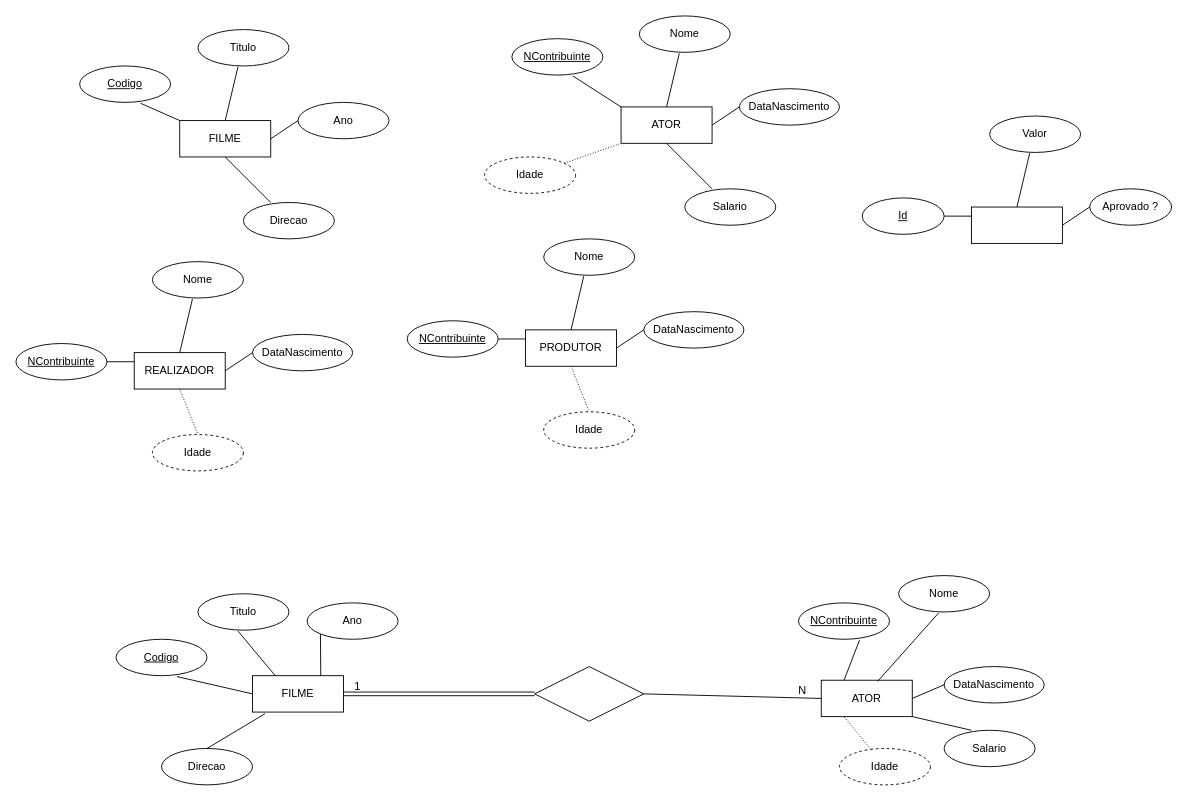
Some shapes in this 1188 by 801 pixel diagram are drawn without their labels. The shapes that lost their labels are listed below. From the top down, each one's centre as x and y in pixels, then its label:
the point at 1016,224: ORCAMENTO
the point at 589,693: ENTRA_EM
